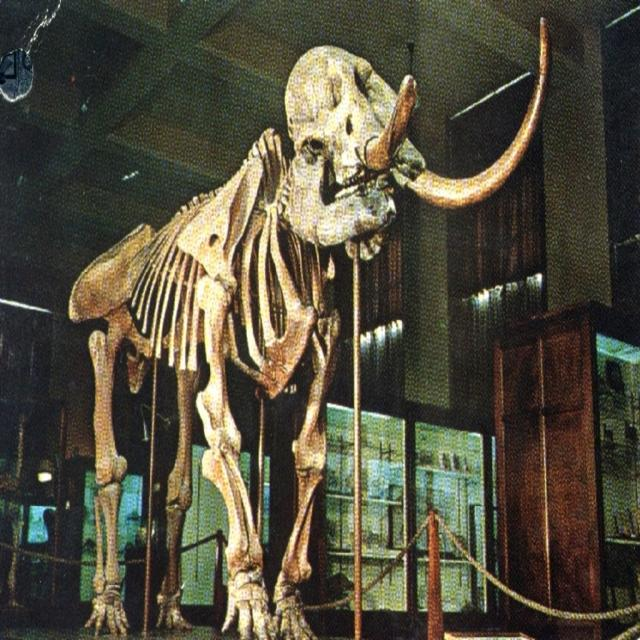Elephant: (65, 17, 546, 639)
